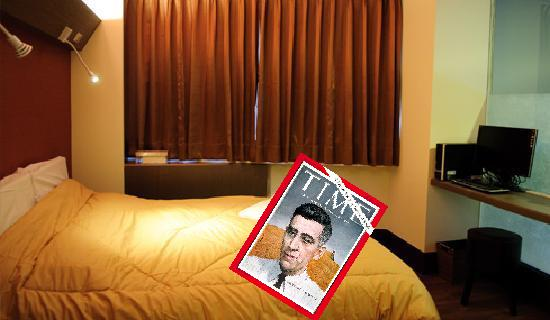times: (229, 147, 390, 316)
